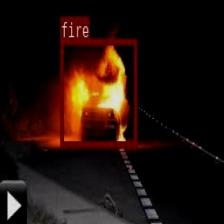fire: (60, 38, 137, 146)
